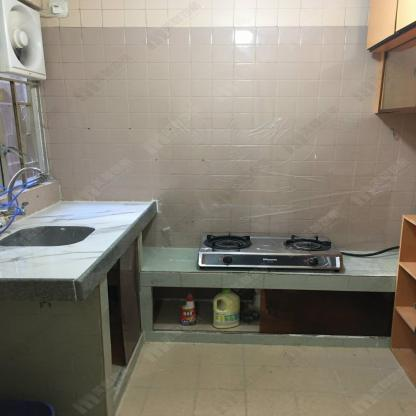Exhaust Fan: (0, 0, 47, 82)
Faucet: (5, 166, 52, 225)
Sink: (0, 227, 92, 246)
Stove: (196, 236, 344, 269)
